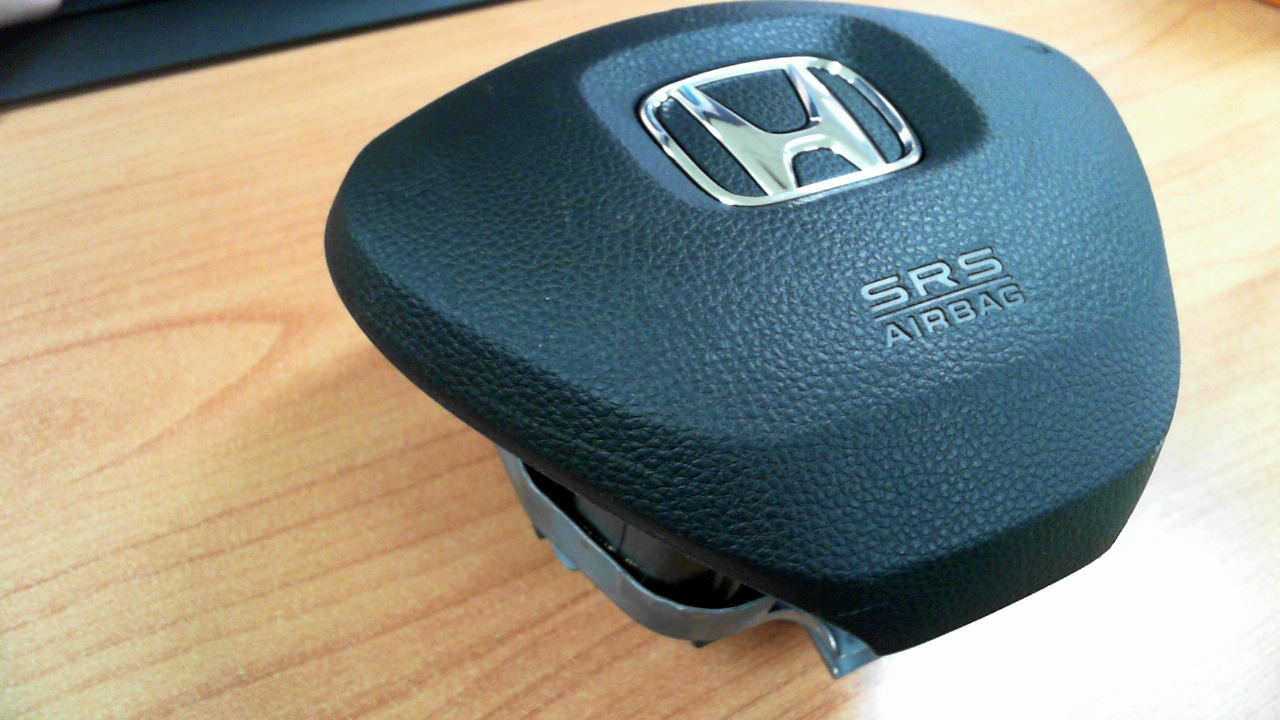Airbag: (323, 0, 1183, 680)
Honda: (640, 55, 922, 207)
